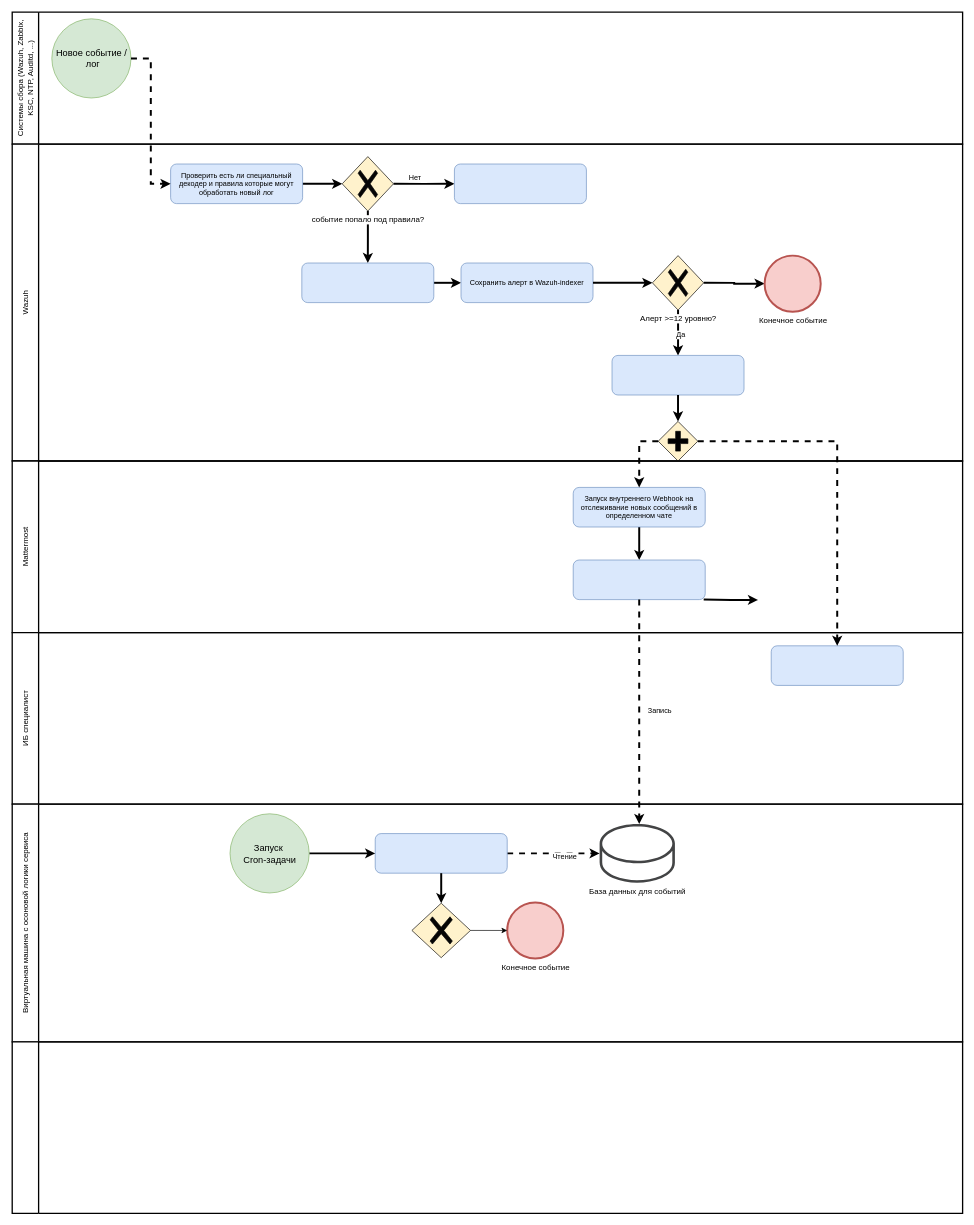
The diagram is 974 pixels wide and 1225 high, and some of its shapes have lost their labels. The shapes that lost their labels are listed below. From the top down, each one's centre as x and y in pixels, then its label:
At (x=520, y=183): "Записать событие / лог в архив всех событий".
At (x=367, y=282): "Сформировать и обогатить новое событие".
At (x=677, y=375): "Запустить встроенный скрипт по отправке уведомлений в мессенджер".
At (x=639, y=579): "Запуск внутреннего скрипта, записывающего в БД очередь для новых заявок".
At (x=837, y=665): "Получение уведомления в корпоративном мессенджере".
At (x=441, y=853): "Запустить скрипт, который проверяет есть ли новая запись".
At (x=441, y=930): "Запись есть?".
At (x=487, y=1127): "Сторонние сервисы (KSC, Zabbix, VaultWarden, ...)".
